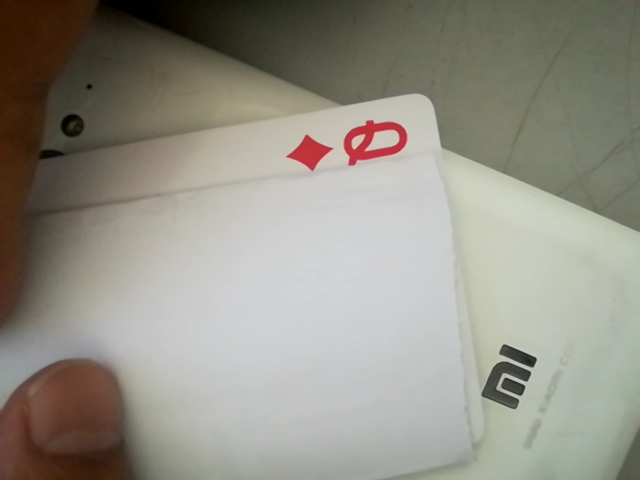fk q: (276, 113, 422, 174)
